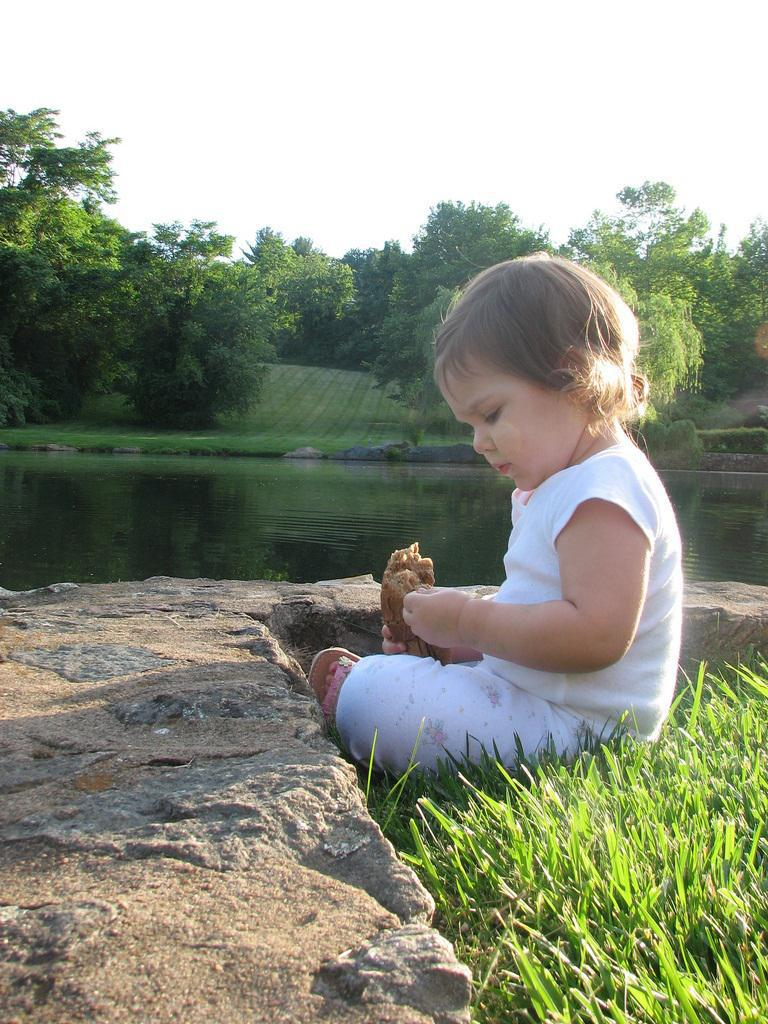child: (317, 236, 688, 791)
